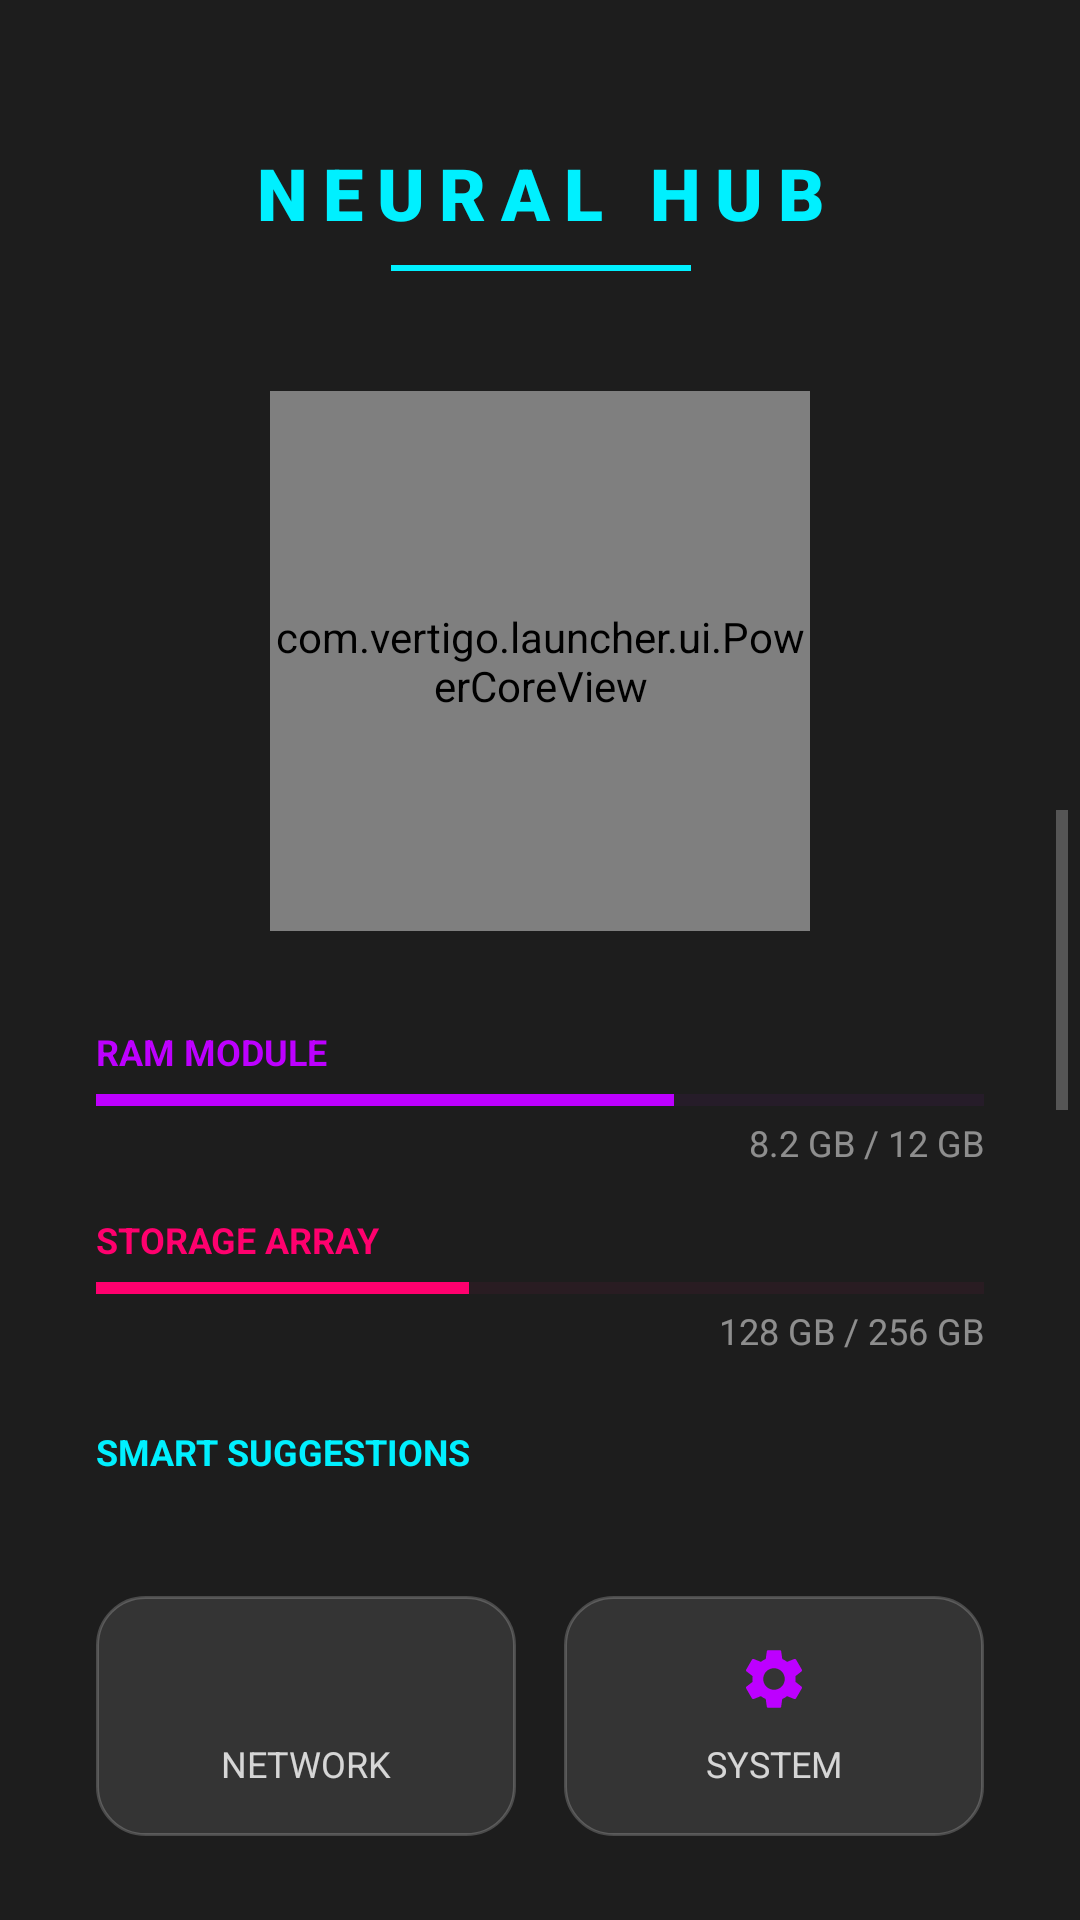

Named icons in this screenshot (1080px x 1920px) and their centers, (x=x, y=y):
category settings: (x=774, y=1679)
